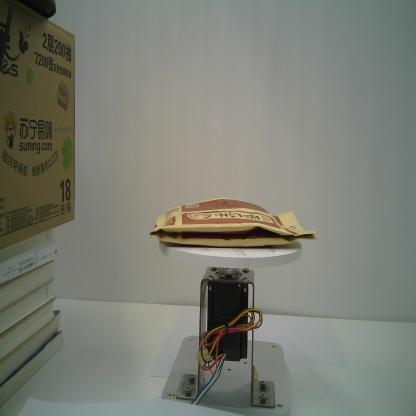Dried Food: (150, 196, 319, 247)
